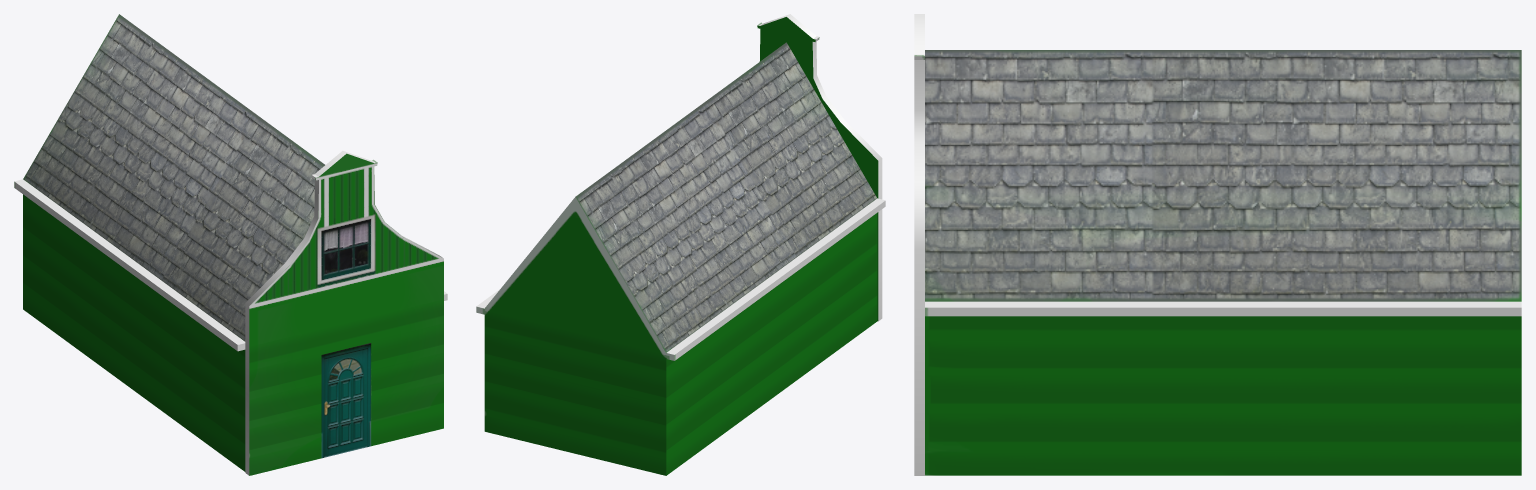
File: zaanse huisje.fbx
3 renders of one model, left to right at view 1: azimuth 30°, elevation 25°; view 2: azimuth 150°, elevation 25°; view 3: azimuth 270°, elevation 25°, orthographic. The views are drawn at different scales.
Parts seen in each view (by area): view 1: pCube3; view 2: pCube3; view 3: pCube3.
Boxes of the visible parts, bbox=[...] form: pCube3: bbox=[14, 14, 447, 475]; pCube3: bbox=[476, 14, 885, 475]; pCube3: bbox=[914, 14, 1521, 475].
Size of the model in its own units: 6.09 by 8.28 by 11.42.
